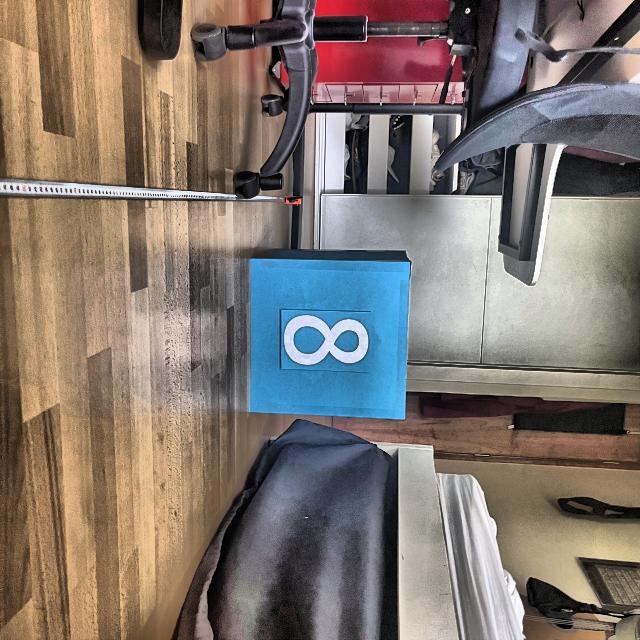blue box: (244, 246, 412, 423)
eight: (284, 311, 370, 368)
